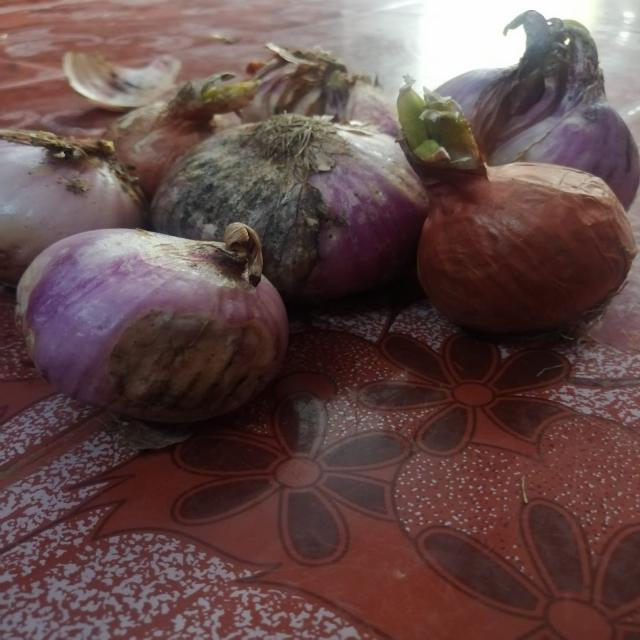rotten: (102, 319, 266, 414), (168, 154, 312, 244), (276, 53, 342, 109)
sprouting: (395, 84, 480, 174), (516, 17, 600, 77), (187, 84, 259, 110)
